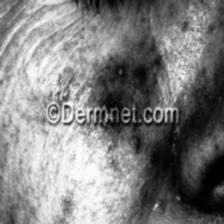Toxin: (73, 54, 161, 104), (79, 124, 151, 168), (58, 189, 80, 217)
